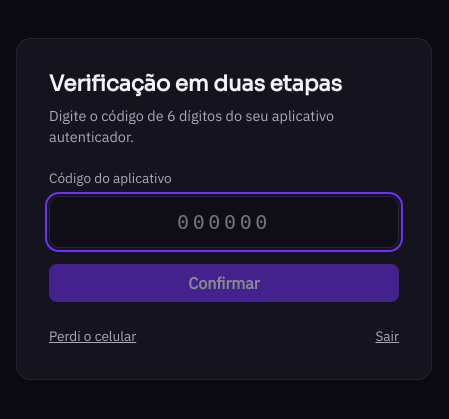
it: perdi o celular › o aviso diz que a recuperação DESLIGA o segundo fator
What coordinates should you click on to do the following:
click the button "Perdi o celular"
I would click on:
 (93, 336)
Its box is [49, 326, 136, 347].
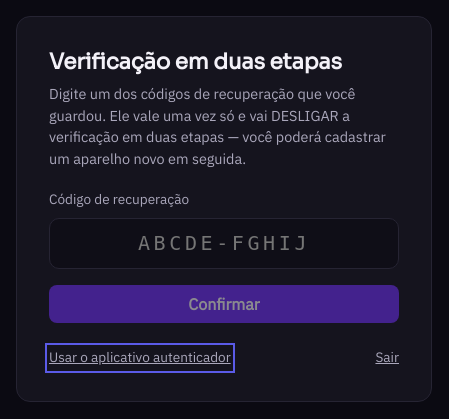
Expected: the text "DESLIGAR a verificação em duas etapas" is shown, [49, 84, 386, 168]
